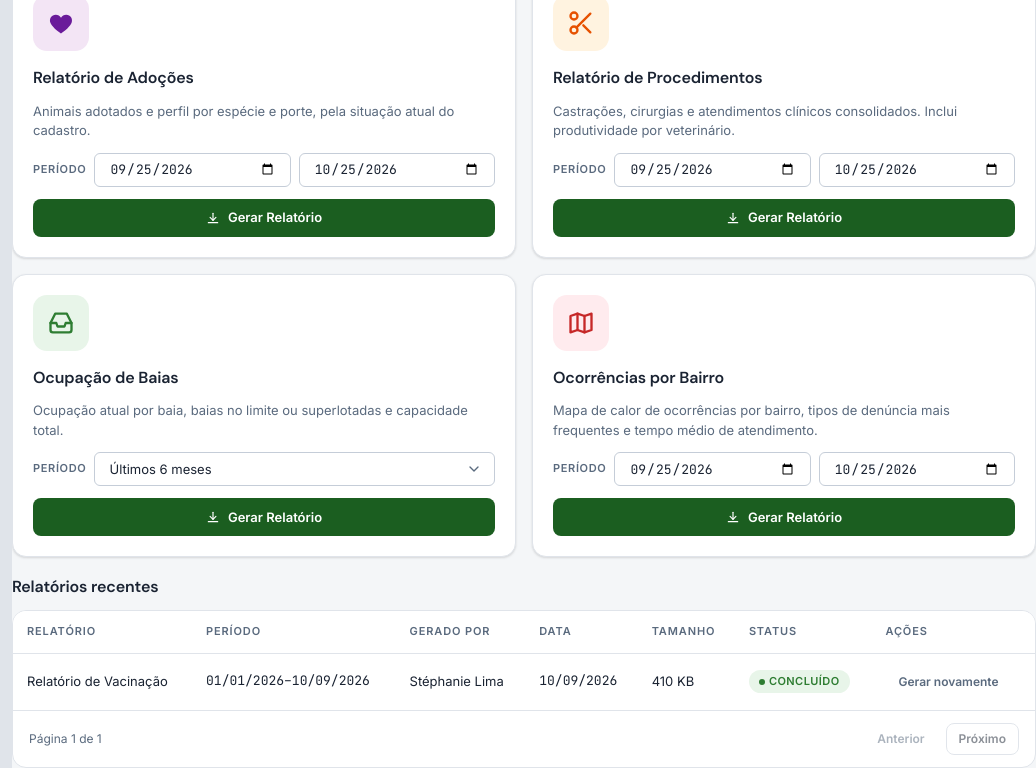
Scenario: Relatorios › "Gerar novamente" no histórico reabre o preview do mesmo tipo
(page scrolled)
Click the button "Gerar novamente" at (948, 682), box [885,666,1012,698]
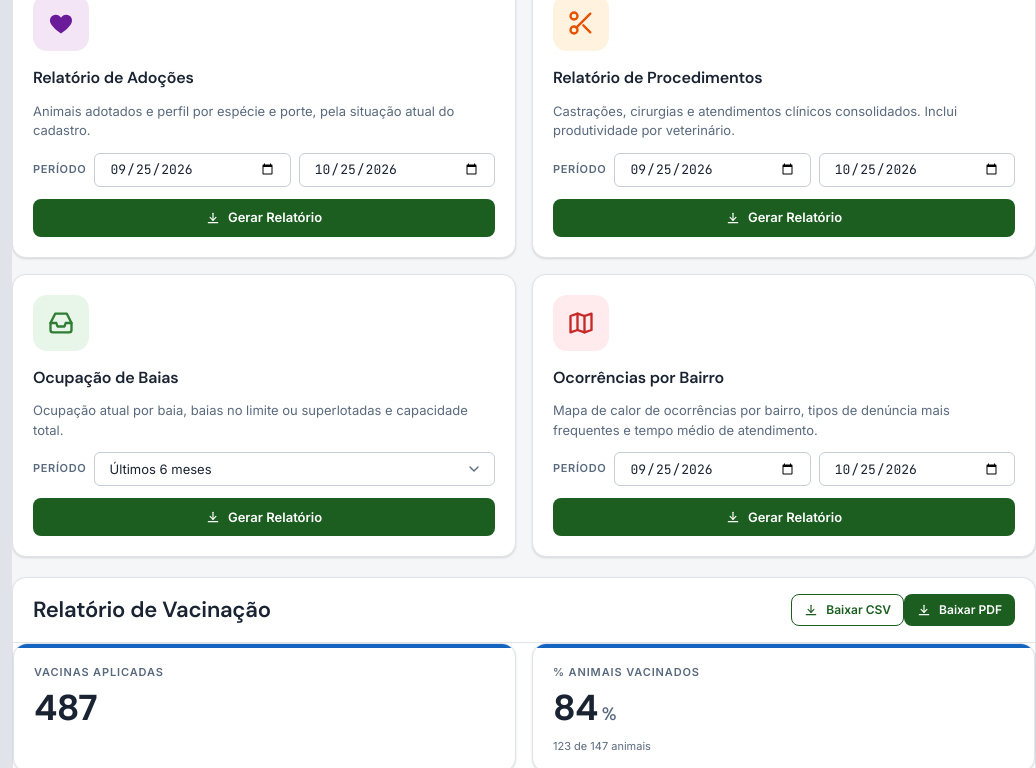
Expected: the heading "Relatório de Vacinação" is shown, [33,596,271,624]
Expected: the text "487" is shown, [34,684,97,731]
